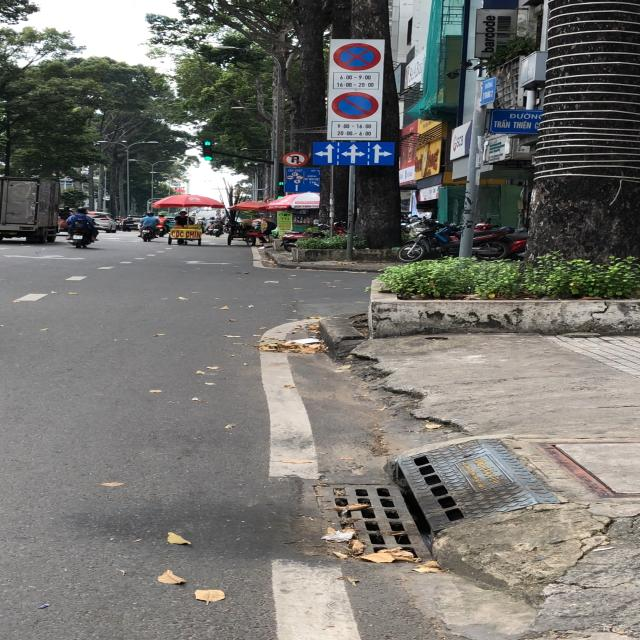Bien bao cam do xe: (328, 90, 381, 121)
Bien bao cam dung xe va do xe: (332, 42, 384, 72)
Bien bao cam quay dau xe: (282, 150, 310, 168)
